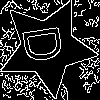D: (22, 22, 73, 65)
